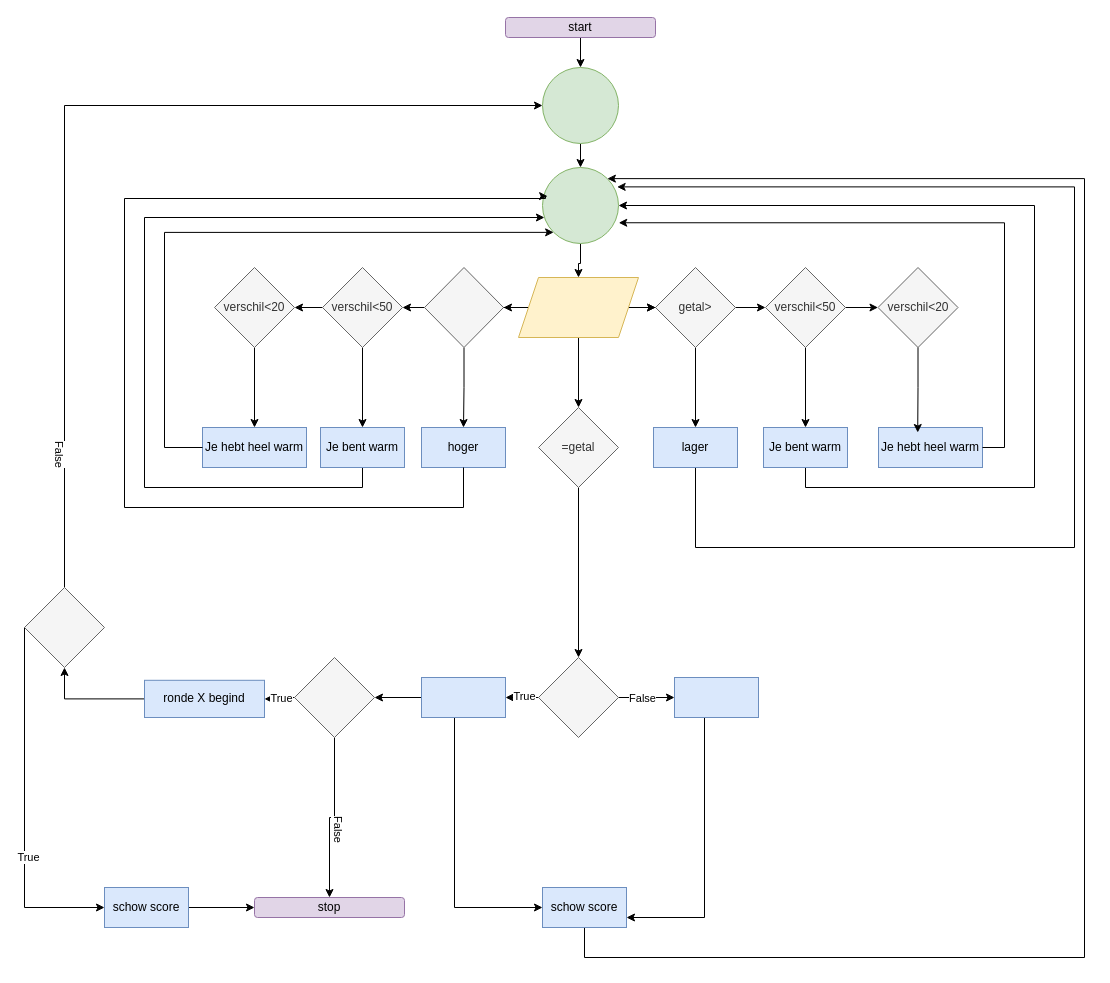
This 1110x983 diagram has some shape labels left out. Here are the shapes that lost their labels. From the top down, the centre of each, then its label:
At pixel 580 105: "ronde x 20".
At pixel 580 205: "te raden x 10".
At pixel 464 307: "getal<".
At pixel 578 307: "raad getal".
At pixel 64 627: "ronde==20".
At pixel 334 697: "volgende ronde?".
At pixel 463 697: "score+1".
At pixel 578 697: "geraden in 10x".
At pixel 716 697: "score+0".
